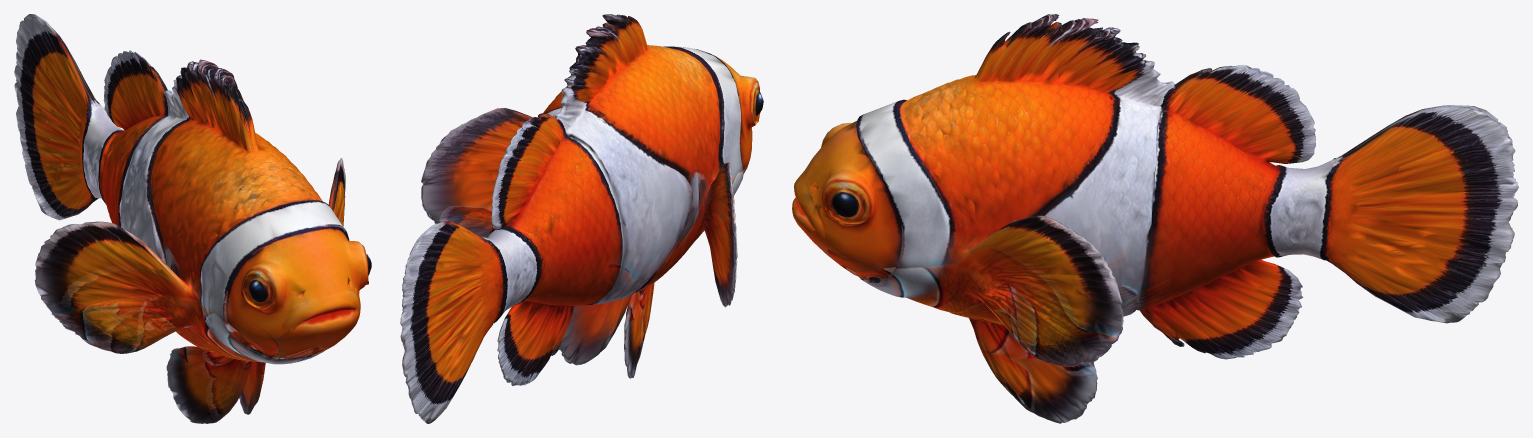
The model's file is clown.glb.
3 views of the same model, side by side, from view 1: azimuth 30°, elevation 25°; view 2: azimuth 150°, elevation 25°; view 3: azimuth 270°, elevation 25° (orthographic). The views are drawn at different scales.
Parts seen in each view (by area): view 1: Body; view 2: Body; view 3: Body.
Part boxes in pixels (box(x1,y1,x2,y2)): Body: box(14, 14, 371, 423); Body: box(400, 14, 763, 423); Body: box(792, 14, 1518, 423).
Bounding box in the file's own units: 0.3295 × 0.3538 × 0.5907.
1 material, 1 textured.
